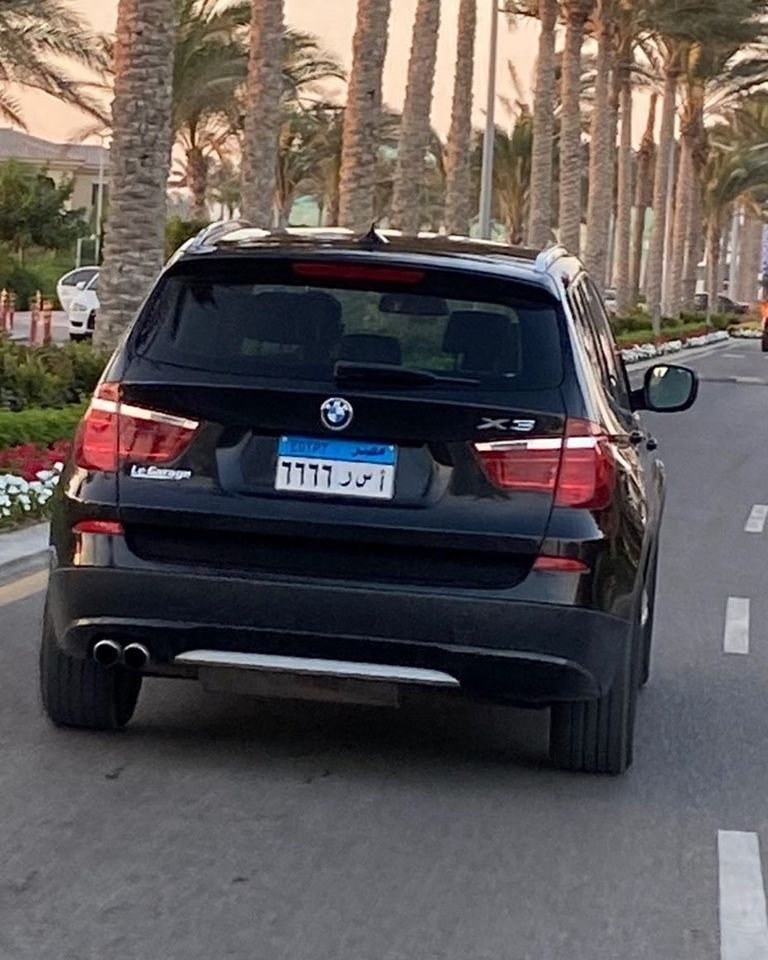carpl: (274, 456, 391, 500)
